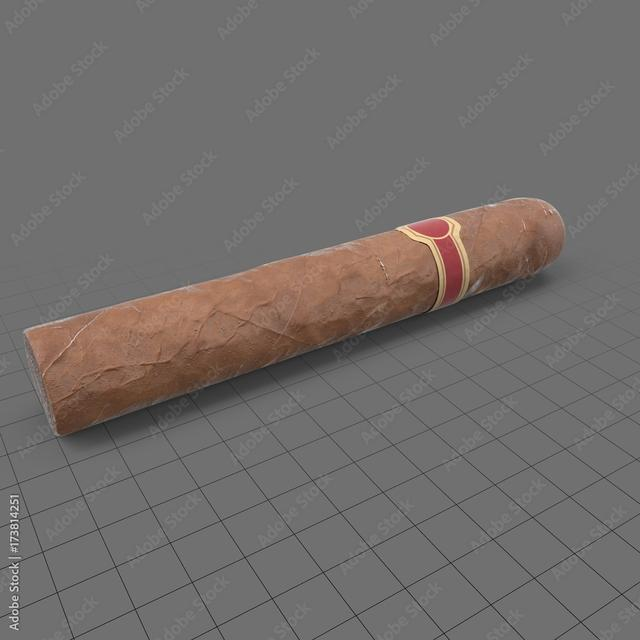Cigar: (22, 194, 566, 438)
